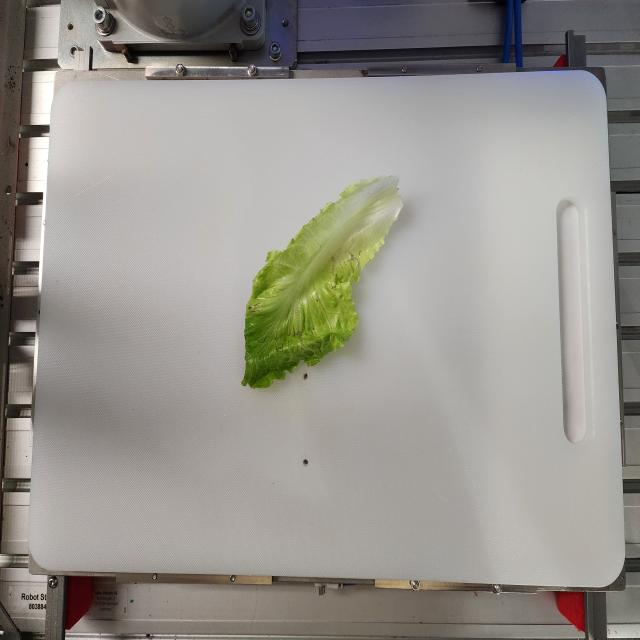lettuce: (241, 172, 403, 390)
